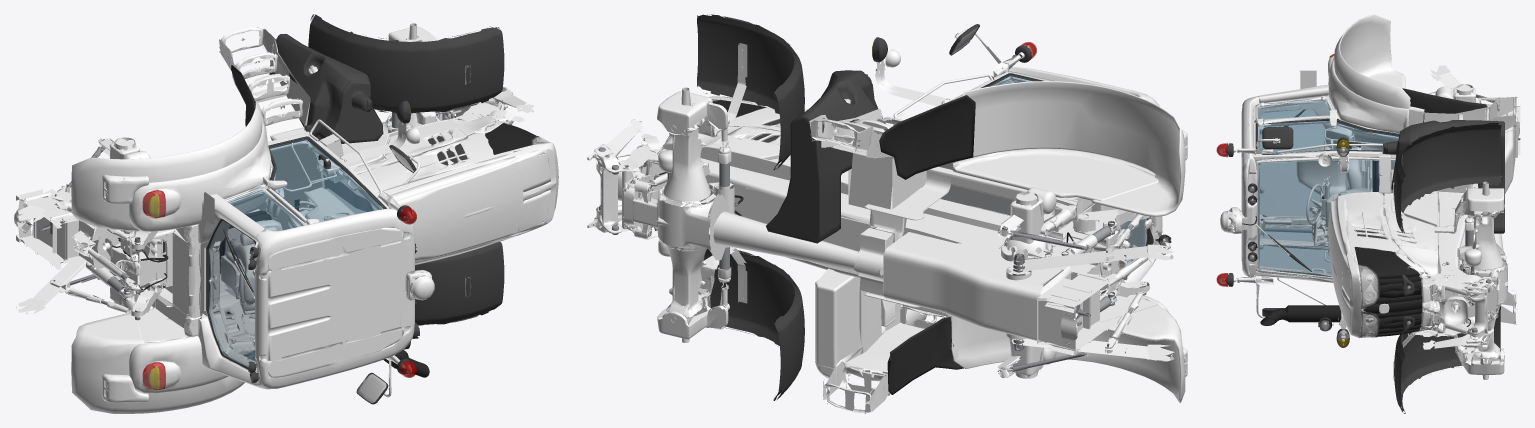
The model's file is vehicle_visual.obj.
3 renders of one model, left to right at view 1: azimuth 30°, elevation 25°; view 2: azimuth 150°, elevation 25°; view 3: azimuth 270°, elevation 25°, orthographic. The views are drawn at different scales.
Visible parts, largest first — view 1: SM2_John_Deere_6195M_Cab, SM2_John_Deere_6195M_Nose, NS_John_Deere_6195M_Mudguard_L, SM2_John_Deere_6195M_Cab_Interier_01, NS_John_Deere_6195M_Rear_Frame, NS_John_Deere_6195M_Mainframe, SM2_John_Deere_6195M_Door_L, SM2_John_Deere_6195M_Rear_Window, NS_John_Deere_6195M_Mudguard_R, NS_John_Deere_6195M_Ladder_L, NS_John_Deere_6195M_Stuff, NS_John_Deere_6195M_Lights (+6 smaller); view 2: SM2_John_Deere_6195M_Cab, NS_John_Deere_6195M_Mainframe, NS_John_Deere_6195M_Rear_Frame, SM2_John_Deere_6195M_Nose, NS_John_Deere_6195M_Mudguard_L, NS_John_Deere_6195M_Front_Axle, NS_John_Deere_6195M_Mudguard_R, NS_John_Deere_6195M_Ladder_L, NS_John_Deere_6195M_Ladder_R, NS_John_Deere_6195M_Rear_Holder_02, NS_John_Deere_6195M_Rear_Axle, NS_John_Deere_6195M_Stuff (+7 smaller); view 3: SM2_John_Deere_6195M_Cab, SM2_John_Deere_6195M_Nose, NS_John_Deere_6195M_Mudguard_L, SM2_John_Deere_6195M_Cab_Interier_01, NS_John_Deere_6195M_Mainframe, NS_John_Deere_6195M_Mudguard_R, SM2_John_Deere_6195M_Rear_Window, NS_John_Deere_6195M_Front_Axle, SM2_John_Deere_6195M_Door_L, NS_John_Deere_6195M_Stuff, NS_John_Deere_6195M_Ladder_L, SM2_John_Deere_6195M_Door_R (+8 smaller).
Boxes of the visible parts, left/top/right/bottom form: SM2_John_Deere_6195M_Cab: left=71, top=65, right=434, bottom=413; SM2_John_Deere_6195M_Nose: left=269, top=33, right=558, bottom=377; NS_John_Deere_6195M_Mudguard_L: left=308, top=14, right=504, bottom=113; SM2_John_Deere_6195M_Cab_Interier_01: left=209, top=177, right=365, bottom=365; NS_John_Deere_6195M_Rear_Frame: left=14, top=150, right=174, bottom=309; NS_John_Deere_6195M_Mainframe: left=152, top=102, right=524, bottom=340; SM2_John_Deere_6195M_Door_L: left=261, top=136, right=386, bottom=224; SM2_John_Deere_6195M_Rear_Window: left=205, top=218, right=258, bottom=374; NS_John_Deere_6195M_Mudguard_R: left=415, top=242, right=504, bottom=325; NS_John_Deere_6195M_Ladder_L: left=219, top=27, right=344, bottom=182; NS_John_Deere_6195M_Stuff: left=204, top=119, right=420, bottom=404; NS_John_Deere_6195M_Lights: left=143, top=100, right=419, bottom=388; SM2_John_Deere_6195M_Cab: left=879, top=67, right=1187, bottom=403; NS_John_Deere_6195M_Mainframe: left=611, top=133, right=1119, bottom=307; NS_John_Deere_6195M_Rear_Frame: left=883, top=187, right=1130, bottom=364; SM2_John_Deere_6195M_Nose: left=639, top=70, right=927, bottom=378; NS_John_Deere_6195M_Mudguard_L: left=657, top=14, right=804, bottom=170; NS_John_Deere_6195M_Front_Axle: left=623, top=119, right=743, bottom=319; NS_John_Deere_6195M_Mudguard_R: left=657, top=247, right=804, bottom=400; NS_John_Deere_6195M_Ladder_L: left=809, top=108, right=926, bottom=209; NS_John_Deere_6195M_Ladder_R: left=823, top=306, right=946, bottom=413; NS_John_Deere_6195M_Rear_Holder_02: left=1011, top=244, right=1174, bottom=361; NS_John_Deere_6195M_Rear_Axle: left=1001, top=192, right=1052, bottom=378; NS_John_Deere_6195M_Stuff: left=885, top=24, right=1036, bottom=331; SM2_John_Deere_6195M_Cab: left=1220, top=14, right=1487, bottom=282; SM2_John_Deere_6195M_Nose: left=1260, top=120, right=1504, bottom=338; NS_John_Deere_6195M_Mudguard_L: left=1392, top=122, right=1504, bottom=233; SM2_John_Deere_6195M_Cab_Interier_01: left=1259, top=102, right=1398, bottom=255; NS_John_Deere_6195M_Mainframe: left=1259, top=134, right=1505, bottom=337; NS_John_Deere_6195M_Mudguard_R: left=1392, top=306, right=1504, bottom=413; SM2_John_Deere_6195M_Rear_Window: left=1259, top=109, right=1324, bottom=218; NS_John_Deere_6195M_Front_Axle: left=1455, top=211, right=1507, bottom=359; SM2_John_Deere_6195M_Door_L: left=1255, top=109, right=1399, bottom=154; NS_John_Deere_6195M_Stuff: left=1216, top=70, right=1383, bottom=318; NS_John_Deere_6195M_Ladder_L: left=1378, top=96, right=1517, bottom=193; SM2_John_Deere_6195M_Door_R: left=1259, top=243, right=1331, bottom=272.
Size of the model in its own units: 1.2 by 0.6381 by 0.727.
